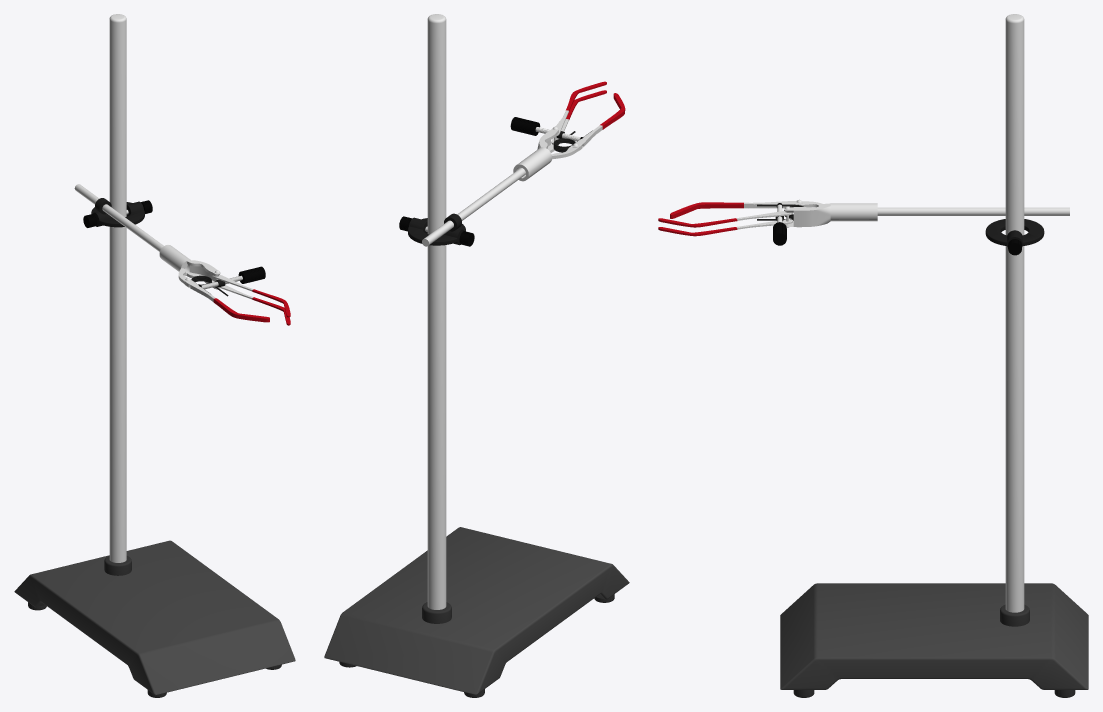
File: de_do_ong_nghiem.glb
The picture shows the model from 3 angles, left to right: view 1: azimuth 30°, elevation 25°; view 2: azimuth 150°, elevation 25°; view 3: azimuth 270°, elevation 25°; orthographic projection. The views are drawn at different scales.
Parts seen in each view (by area): view 1: gia_do; view 2: gia_do; view 3: gia_do.
Boxes of the visible parts, left/top/right/bottom form: gia_do: left=14, top=14, right=295, bottom=697; gia_do: left=324, top=14, right=629, bottom=697; gia_do: left=658, top=14, right=1088, bottom=697.
Bounding box in the file's own units: 0.1002 × 0.3996 × 0.2411.
